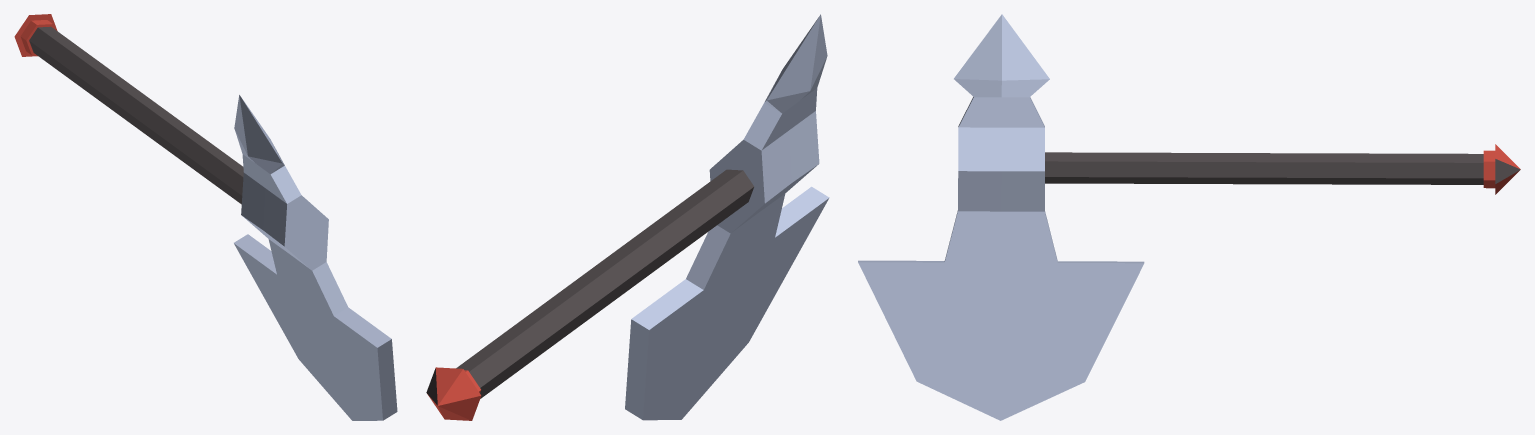
The model's file is Axe.fbx.
3 renders of one model, left to right at view 1: azimuth 30°, elevation 25°; view 2: azimuth 150°, elevation 25°; view 3: azimuth 270°, elevation 25°, orthographic. The views are drawn at different scales.
Parts seen in each view (by area): view 1: Cylinder; view 2: Cylinder; view 3: Cylinder.
Part boxes in pixels (x1,y1,x2,y2): Cylinder: [14, 14, 397, 420]; Cylinder: [426, 14, 829, 420]; Cylinder: [858, 14, 1520, 420].
Bounding box in the file's own units: 139 × 370 × 634.
